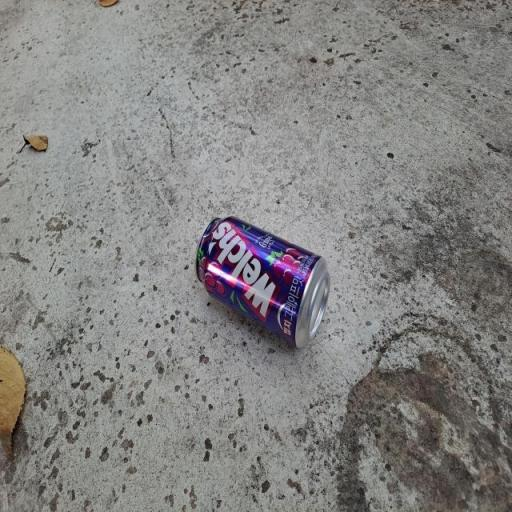metal: (163, 180, 367, 388)
